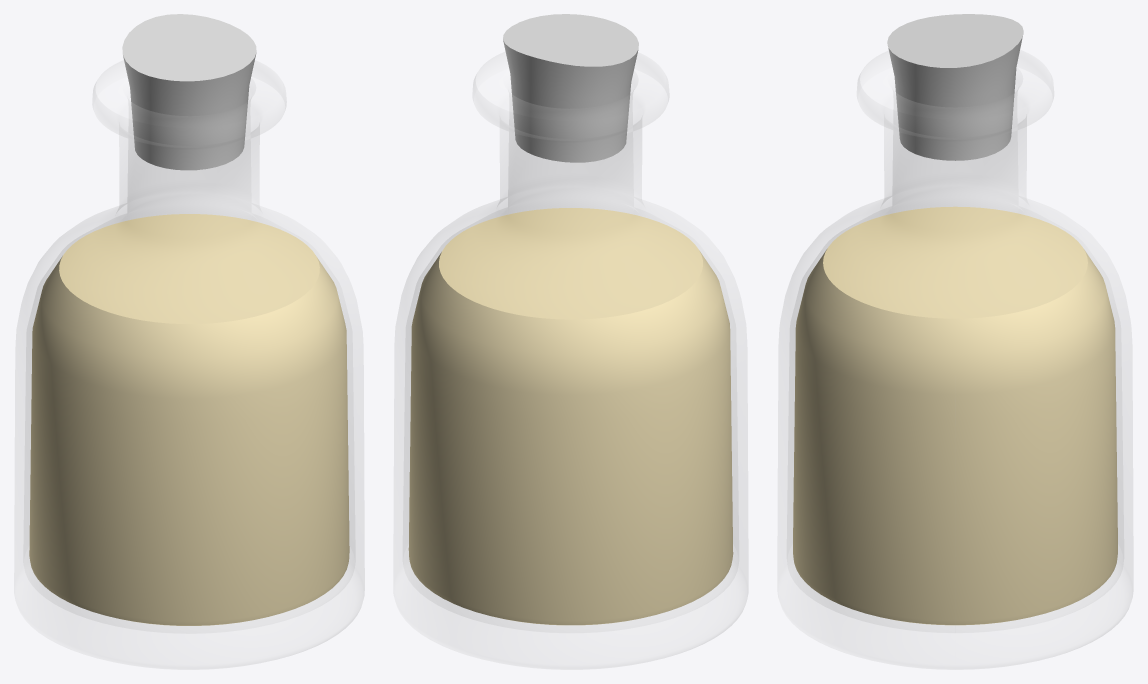
The model's file is Teeth_Jar_2.fbx.
3 views of the same model, side by side, from view 1: azimuth 30°, elevation 25°; view 2: azimuth 150°, elevation 25°; view 3: azimuth 270°, elevation 25° (orthographic).
Parts seen in each view (by area): view 1: Teeth_Jar_2_LOD0; view 2: Teeth_Jar_2_LOD0; view 3: Teeth_Jar_2_LOD0.
Boxes of the visible parts, x1,y1,x2,y2 form: Teeth_Jar_2_LOD0: [14, 14, 364, 669]; Teeth_Jar_2_LOD0: [394, 14, 747, 669]; Teeth_Jar_2_LOD0: [778, 14, 1132, 669].
Size of what is drawn, in the model's own units: 7.2 by 12.65 by 7.2.
